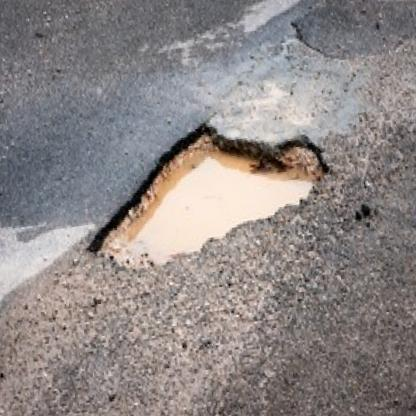pothole: (70, 103, 338, 278)
